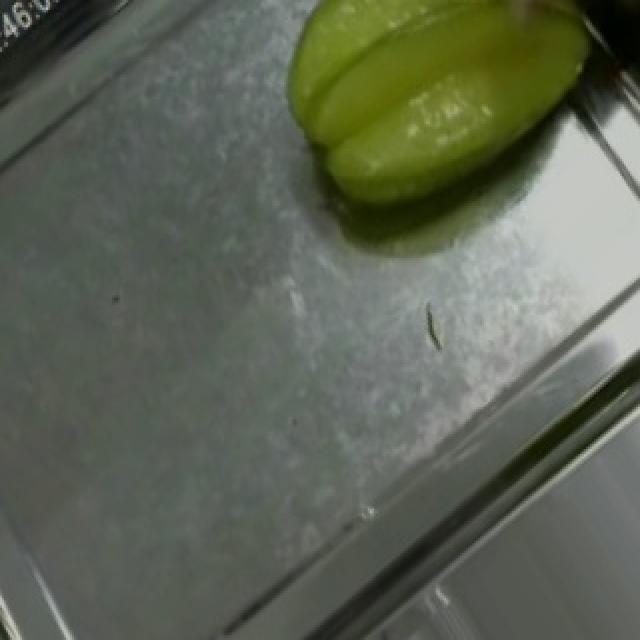fruit: (246, 0, 640, 283)
